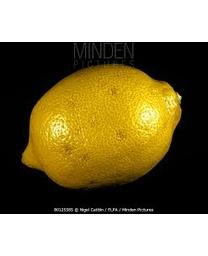lemon: (20, 62, 183, 191)
